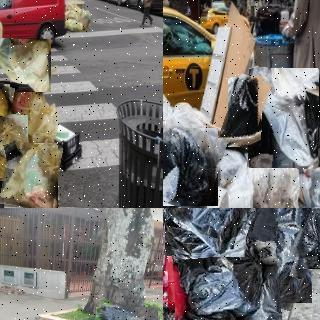Garbage: (229, 208, 320, 307), (173, 243, 280, 320), (248, 68, 319, 169), (163, 123, 223, 208), (1, 141, 60, 208), (165, 208, 247, 256), (223, 75, 267, 149), (0, 38, 51, 92), (0, 113, 31, 179), (295, 208, 320, 273), (94, 302, 159, 320), (0, 83, 13, 142)
